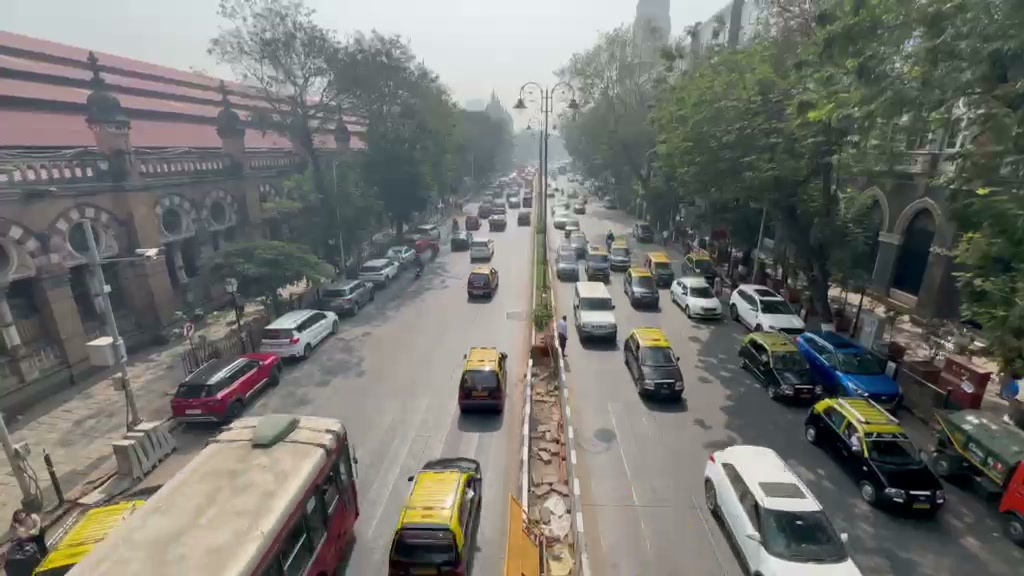bus: (57, 412, 361, 572), (387, 457, 483, 575)
car: (702, 444, 859, 575), (802, 394, 947, 517), (387, 456, 483, 574), (794, 330, 904, 411), (169, 351, 283, 424), (738, 330, 824, 406), (623, 327, 685, 402), (258, 308, 338, 360), (730, 284, 806, 334), (457, 346, 506, 414), (670, 276, 724, 322), (315, 277, 375, 318), (997, 459, 1024, 547), (574, 292, 618, 344), (624, 265, 660, 310), (358, 256, 399, 286), (468, 265, 499, 301), (385, 245, 422, 274), (468, 238, 494, 263), (608, 246, 632, 270)
pedestrian: (0, 510, 48, 576)
truck: (802, 395, 947, 517), (929, 408, 1023, 495), (898, 349, 994, 411), (577, 210, 637, 258)
